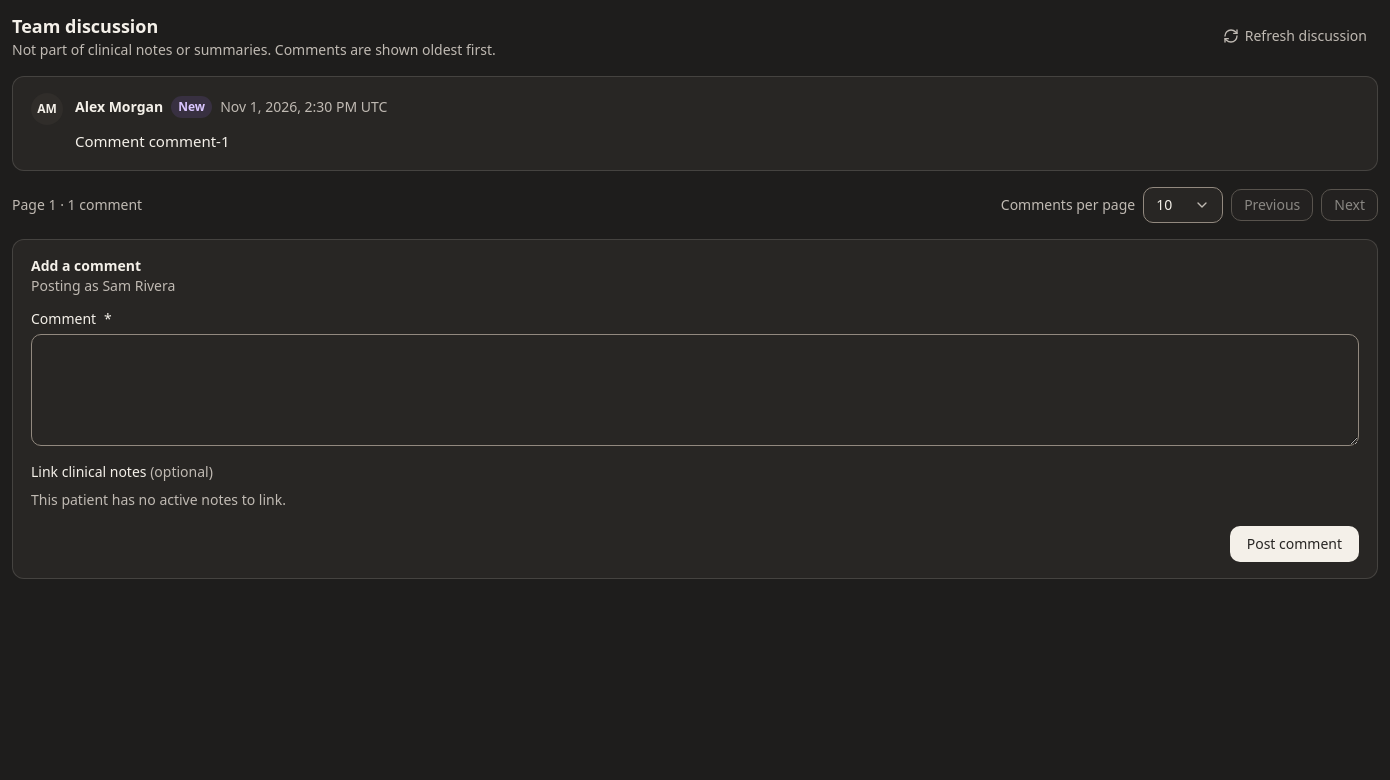
Test: displayed discussion acknowledgments › cannot skip a page loaded in a hidden document
Check: the text "Comment comment-1" is shown, box [75,131,230,151]
Click the button "Next": (1350, 205) [1321,189,1378,221]
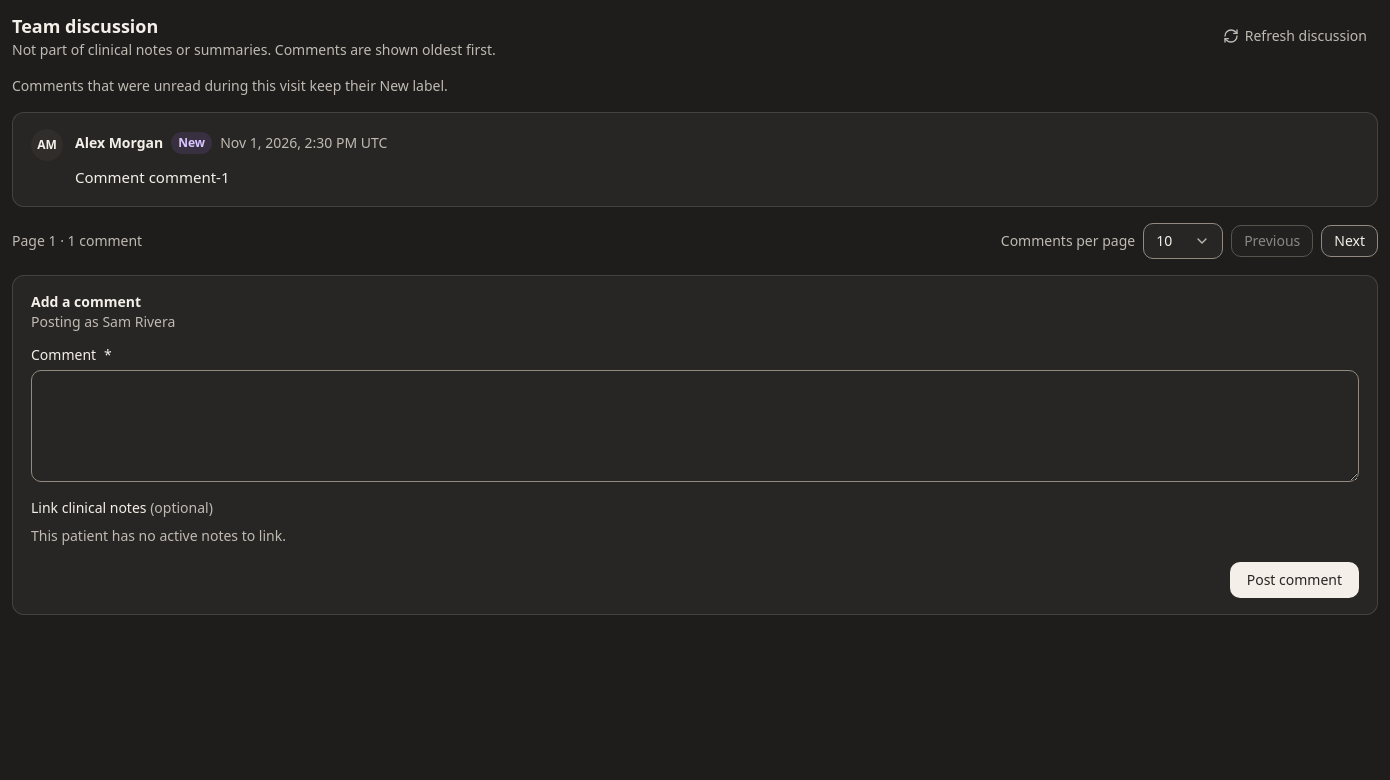
Check: the button "Next" is enabled, box [1321,225,1378,257]
